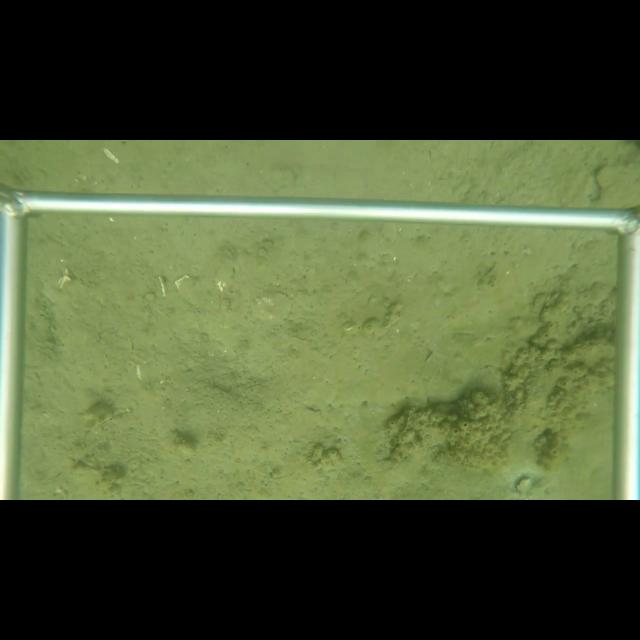Oyster-Closed: (395, 407, 415, 439), (510, 477, 535, 498)
